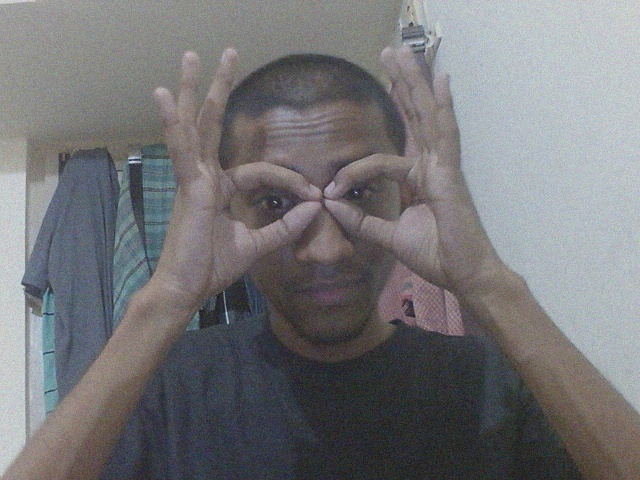hand: (135, 43, 322, 315), (323, 40, 498, 305)
